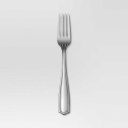fork: (49, 10, 82, 116)
